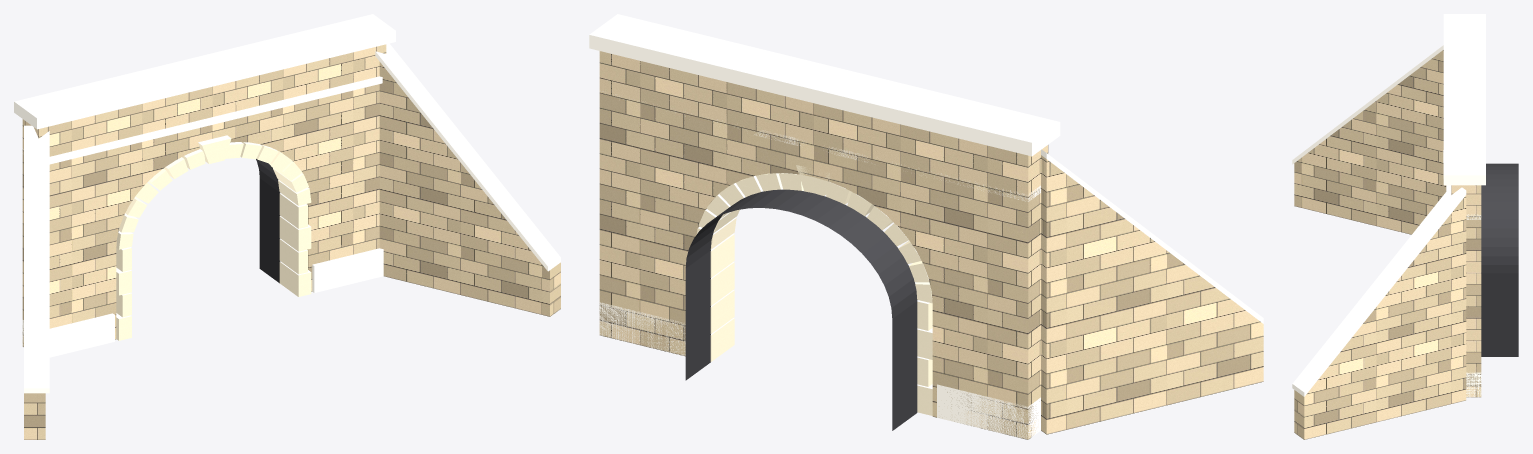
The model's file is portal.glb.
3 renders of one model, left to right at view 1: azimuth 30°, elevation 25°; view 2: azimuth 150°, elevation 25°; view 3: azimuth 270°, elevation 25°, orthographic. The views are drawn at different scales.
Parts seen in each view (by area): view 1: Headwall, Wing.001, Coping, WingCoping, WingCoping.001, StringCourse, Recess, Plinth.001, Plinth, Wing, Jamb.006, Jamb.004 (+3 smaller); view 2: Headwall, Wing, Coping, Recess, Plinth, Plinth.001, WingCoping, Jamb.007, Jamb.004, Jamb.005, Jamb.006, StringCourse; view 3: Wing.001, Wing, Coping, Recess, WingCoping.001, Headwall, WingCoping, Plinth.001.
Part boxes in pixels (bbox=[...]): Headwall: bbox=[22, 44, 386, 346]; Wing.001: bbox=[379, 62, 560, 316]; Coping: bbox=[14, 14, 395, 129]; WingCoping: bbox=[24, 125, 49, 393]; WingCoping.001: bbox=[375, 43, 560, 271]; StringCourse: bbox=[23, 76, 382, 164]; Recess: bbox=[256, 159, 280, 283]; Plinth.001: bbox=[312, 248, 383, 292]; Plinth: bbox=[22, 313, 114, 357]; Wing: bbox=[24, 393, 45, 439]; Jamb.006: bbox=[279, 216, 311, 251]; Jamb.004: bbox=[279, 261, 311, 296]; Headwall: bbox=[599, 51, 1048, 439]; Wing: bbox=[1041, 155, 1263, 434]; Coping: bbox=[589, 14, 1060, 156]; Recess: bbox=[685, 189, 917, 430]; Plinth: bbox=[937, 384, 1040, 439]; Plinth.001: bbox=[599, 302, 685, 355]; WingCoping: bbox=[1041, 149, 1263, 323]; Jamb.007: bbox=[710, 233, 734, 277]; Jamb.004: bbox=[710, 318, 734, 361]; Jamb.005: bbox=[710, 290, 734, 333]; Jamb.006: bbox=[710, 262, 734, 305]; StringCourse: bbox=[602, 91, 1040, 201]; Wing.001: bbox=[1294, 195, 1466, 439]; Wing: bbox=[1294, 50, 1446, 234]; Coping: bbox=[1443, 14, 1485, 185]; Recess: bbox=[1481, 163, 1518, 356]; WingCoping.001: bbox=[1292, 186, 1466, 396]; Headwall: bbox=[1451, 185, 1481, 397]; WingCoping: bbox=[1292, 45, 1443, 164]; Plinth.001: bbox=[1466, 372, 1481, 396].
Bounding box in the file's own units: 22.89 × 9.95 × 9.07.
4 materials, 2 textured.
